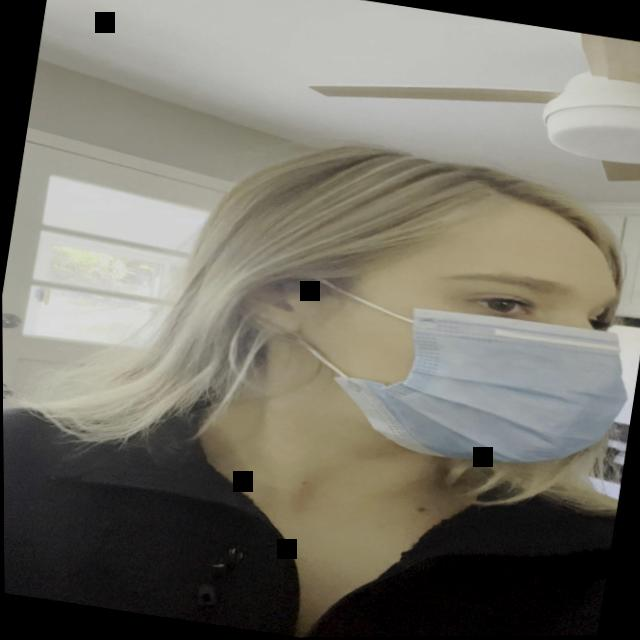Mask: (282, 149, 640, 488)
